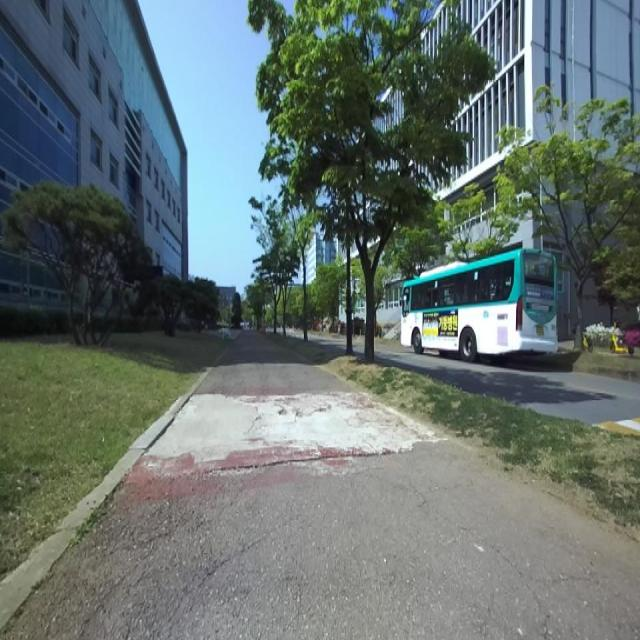sidewalk: (0, 331, 640, 640)
